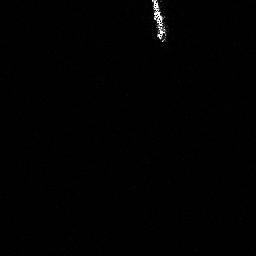ship: (147, 1, 169, 43)
